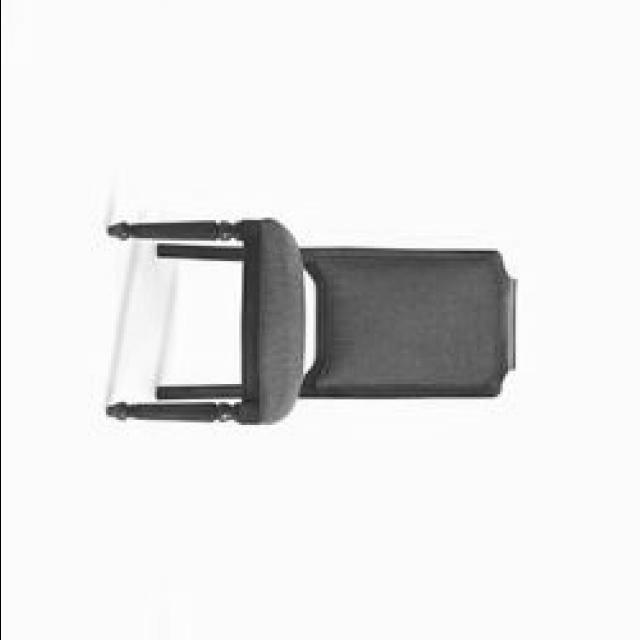chair: (104, 214, 518, 426)
